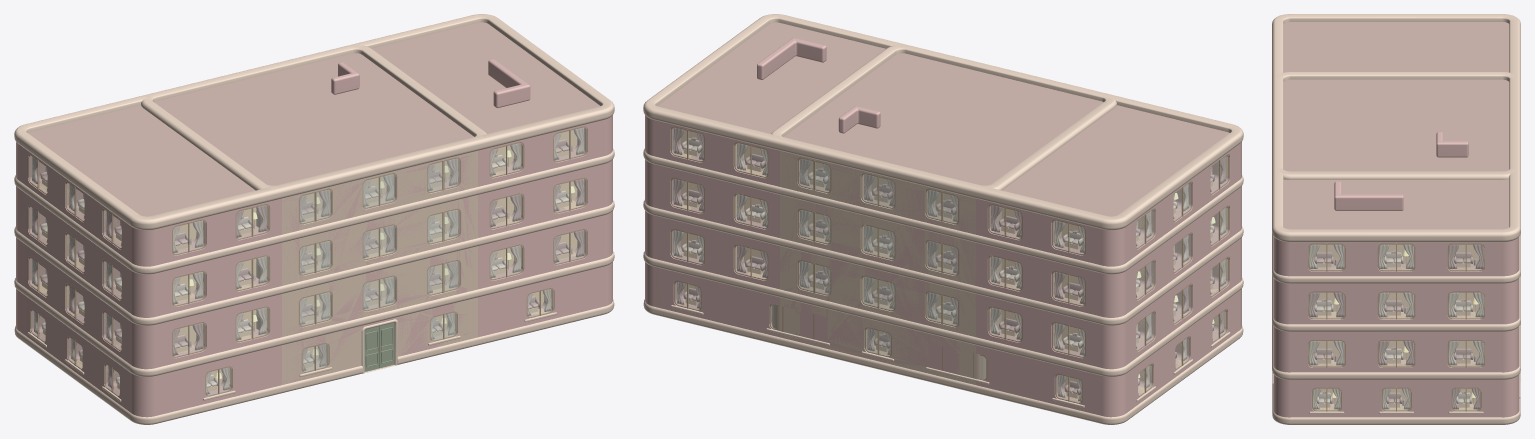
The model's file is city-buildings-v60.glb.
The picture shows the model from 3 angles, left to right: view 1: azimuth 30°, elevation 25°; view 2: azimuth 150°, elevation 25°; view 3: azimuth 270°, elevation 25°; orthographic projection. The views are drawn at different scales.
Parts seen in each view (by area): view 1: city-building-03__arch59_blush, city-building-03__arch59_roof_stone, city-building-03__arch59_pillow_trim, city-building-01__arch59_cream, city-building-03__room59_glass_sage, city-building-01__arch59_pillow_trim, city-building-01__arch59_roof_stone, city-building-03__arch59_champagne_frame, city-building-03__room59_curtain_ivory, city-building-03__room59_warm_backing, city-building-01__room59_glass_sage, city-building-03__room59_curtain_blush (+8 smaller); view 2: city-building-03__arch59_blush, city-building-03__arch59_roof_stone, city-building-03__arch59_pillow_trim, city-building-01__arch59_roof_stone, city-building-01__arch59_cream, city-building-03__room59_glass_sage, city-building-01__arch59_pillow_trim, city-building-01__room59_glass_sage, city-building-03__arch59_champagne_frame, city-building-03__room59_curtain_ivory, city-building-03__room59_warm_backing, city-building-03__room59_curtain_blush (+7 smaller); view 3: city-building-03__arch59_blush, city-building-03__arch59_roof_stone, city-building-01__arch59_roof_stone, city-building-03__arch59_pillow_trim, city-building-03__room59_glass_sage, city-building-01__arch59_pillow_trim, city-building-03__room59_warm_backing, city-building-03__room59_curtain_ivory, city-building-03__arch59_champagne_frame, city-building-03__room59_curtain_blush, city-building-02__arch59_blush, city-building-05__room59_curtain_ivory (+1 smaller).
Part boxes in pixels (x1,y1,x2,y2): city-building-03__arch59_blush: (16,59,612,417); city-building-03__arch59_roof_stone: (28,22,600,216); city-building-03__arch59_pillow_trim: (14,14,614,424); city-building-01__arch59_cream: (256,150,477,384); city-building-03__room59_glass_sage: (30,128,585,395); city-building-01__arch59_pillow_trim: (141,45,486,392); city-building-01__arch59_roof_stone: (154,53,473,185); city-building-03__arch59_champagne_frame: (28,126,587,396); city-building-03__room59_curtain_ivory: (32,127,584,394); city-building-03__room59_warm_backing: (31,130,581,389); city-building-01__room59_glass_sage: (300,159,458,371); city-building-03__room59_curtain_blush: (32,139,584,393); city-building-03__arch59_blush: (645,37,1241,417); city-building-03__arch59_roof_stone: (657,22,1229,216); city-building-03__arch59_pillow_trim: (643,14,1243,424); city-building-01__arch59_roof_stone: (784,53,1093,185); city-building-01__arch59_cream: (771,150,1001,384); city-building-03__room59_glass_sage: (672,128,1227,402); city-building-01__arch59_pillow_trim: (771,45,1116,392); city-building-01__room59_glass_sage: (799,159,957,355); city-building-03__arch59_champagne_frame: (670,126,1229,403); city-building-03__room59_curtain_ivory: (673,128,1225,401); city-building-03__room59_warm_backing: (676,130,1228,402); city-building-03__room59_curtain_blush: (673,137,1225,395); city-building-03__arch59_blush: (1273,181,1519,417); city-building-03__arch59_roof_stone: (1283,22,1509,229); city-building-01__arch59_roof_stone: (1283,79,1509,171); city-building-03__arch59_pillow_trim: (1272,14,1520,424); city-building-03__room59_glass_sage: (1310,245,1482,409); city-building-01__arch59_pillow_trim: (1272,72,1520,179); city-building-03__room59_warm_backing: (1308,244,1484,410); city-building-03__room59_curtain_ivory: (1309,244,1483,409); city-building-03__arch59_champagne_frame: (1308,243,1484,411); city-building-03__room59_curtain_blush: (1309,244,1483,409); city-building-02__arch59_blush: (1436,132,1468,157); city-building-05__room59_curtain_ivory: (1314,255,1471,403).
Bounding box in the file's own units: 31.5 × 13.5 × 15.
